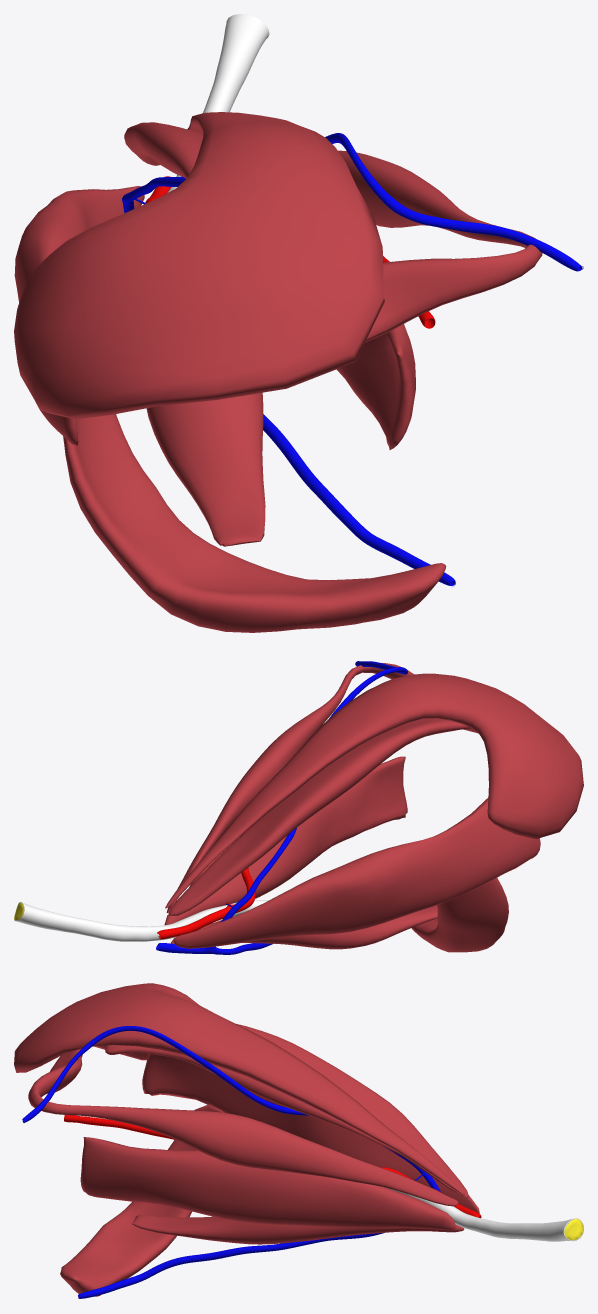
File: VH_F_Eye_R_Landmarks.glb
The picture shows the model from 3 angles, top to bottom: view 1: azimuth 30°, elevation 25°; view 2: azimuth 150°, elevation 25°; view 3: azimuth 270°, elevation 25°; orthographic projection. The views are drawn at different scales.
Visible parts, largest first — view 1: VH_F_eye_R_landmark_muscles, VH_F_eye_R_landmark_veins, VH_F_eye_R_landmark_dura_mater_optic_nerve; view 2: VH_F_eye_R_landmark_muscles, VH_F_eye_R_landmark_dura_mater_optic_nerve, VH_F_eye_R_landmark_veins, VH_F_eye_R_landmark_arteries; view 3: VH_F_eye_R_landmark_muscles, VH_F_eye_R_landmark_veins, VH_F_eye_R_landmark_dura_mater_optic_nerve, VH_F_eye_R_landmark_arteries.
Part boxes in pixels (box(x1,y1,x2,y2)): VH_F_eye_R_landmark_muscles: box(14, 112, 542, 632); VH_F_eye_R_landmark_veins: box(122, 133, 583, 586); VH_F_eye_R_landmark_dura_mater_optic_nerve: box(167, 14, 269, 192); VH_F_eye_R_landmark_muscles: box(164, 663, 583, 952); VH_F_eye_R_landmark_dura_mater_optic_nerve: box(14, 900, 269, 941); VH_F_eye_R_landmark_veins: box(156, 661, 407, 954); VH_F_eye_R_landmark_arteries: box(157, 827, 255, 939); VH_F_eye_R_landmark_muscles: box(14, 983, 479, 1296); VH_F_eye_R_landmark_veins: box(22, 1026, 440, 1298); VH_F_eye_R_landmark_dura_mater_optic_nerve: box(385, 1187, 583, 1241); VH_F_eye_R_landmark_arteries: box(64, 1115, 481, 1218).
Bounding box in the file's own units: 0.0477 × 0.0358 × 0.0667.
